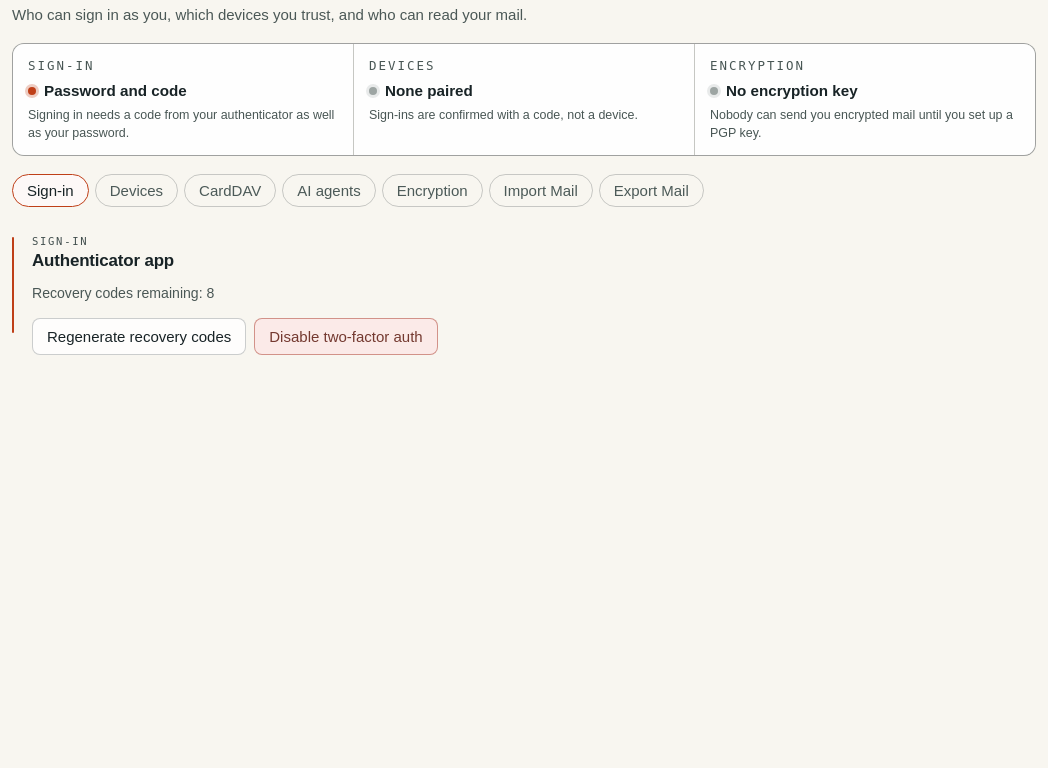
SIBLING: recovery codes survive a tab switch › keeps just-issued recovery codes across Sign-in -> Devices -> Sign-in
Click the button "Regenerate recovery codes": point(139, 337) [32,318,246,355]
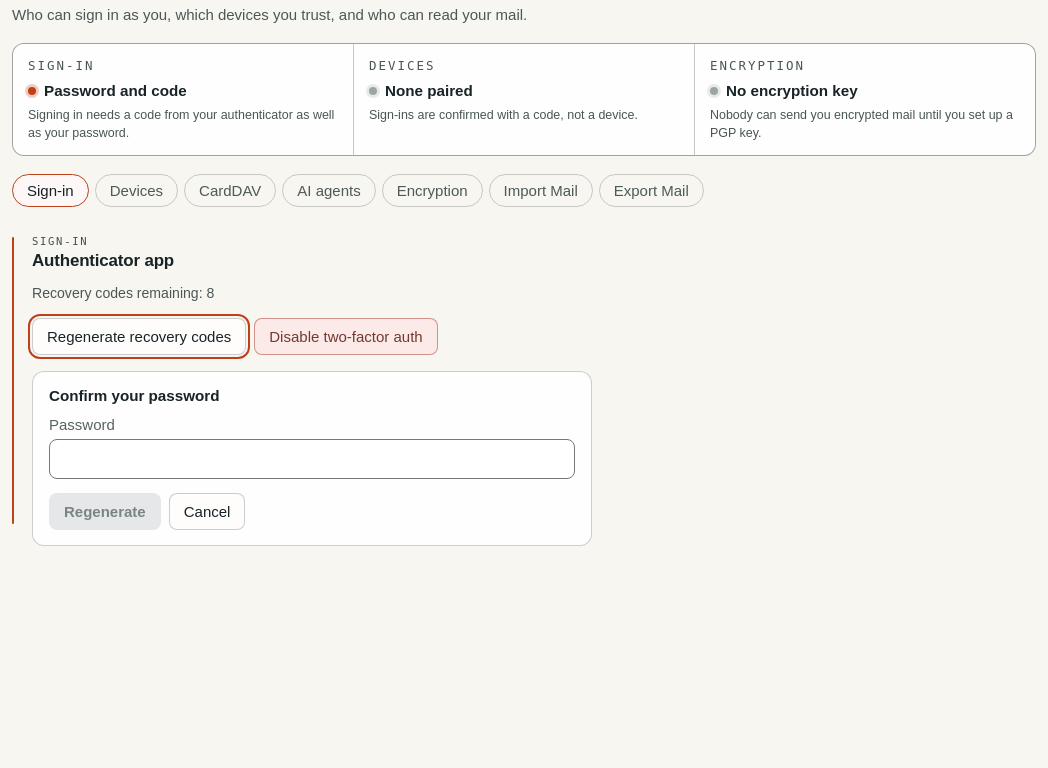
In the password field labelled "Password": point(312, 459) [49,439,575,479], type "hunter2"
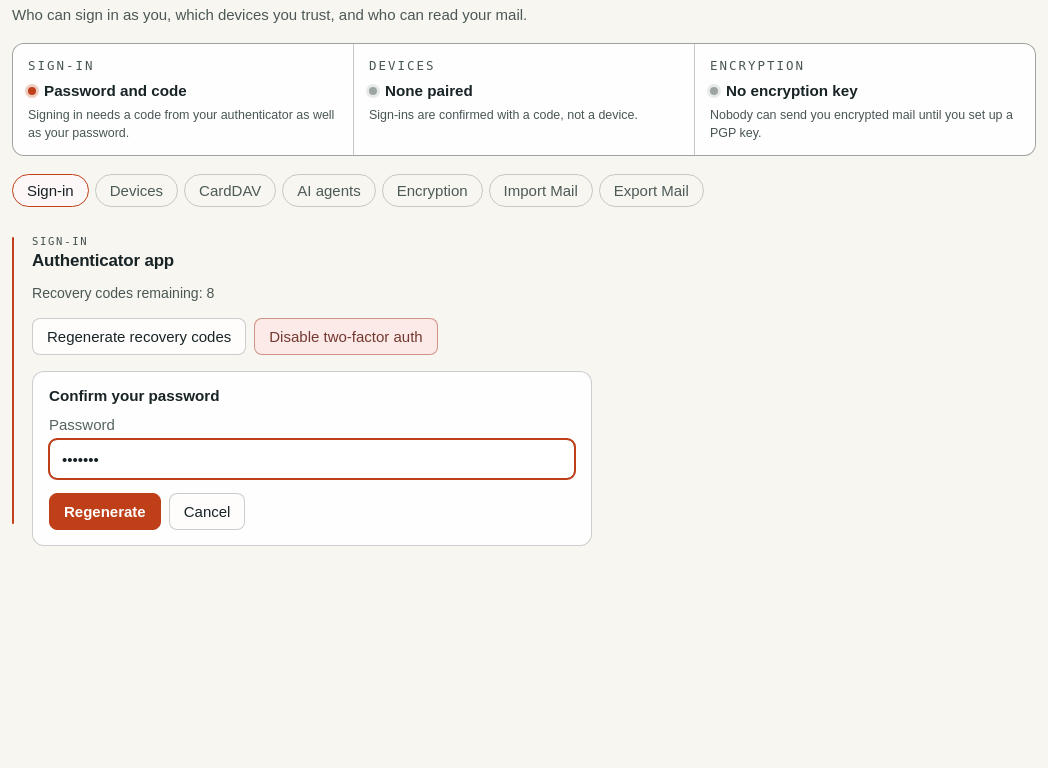
Click the button "Regenerate": point(105, 512) [49,493,161,530]
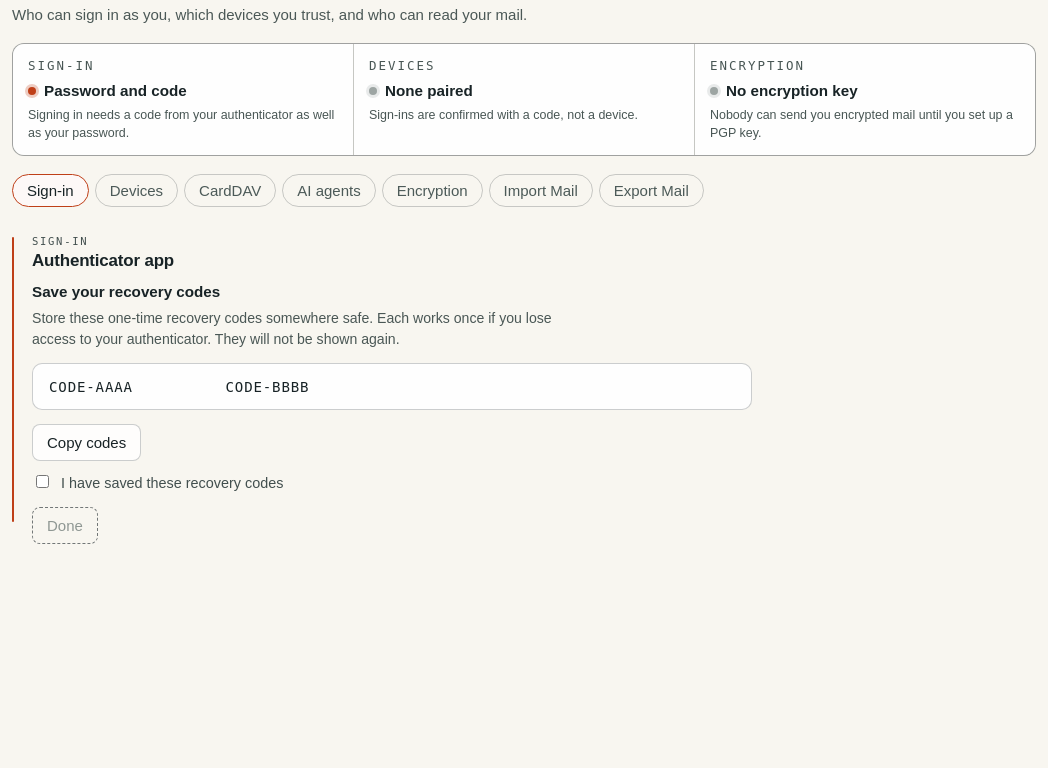
Now the text "CODE-AAAA" is shown, box [49,378,133,394]
Click the tab "Devices": point(136, 191) [95,174,178,207]
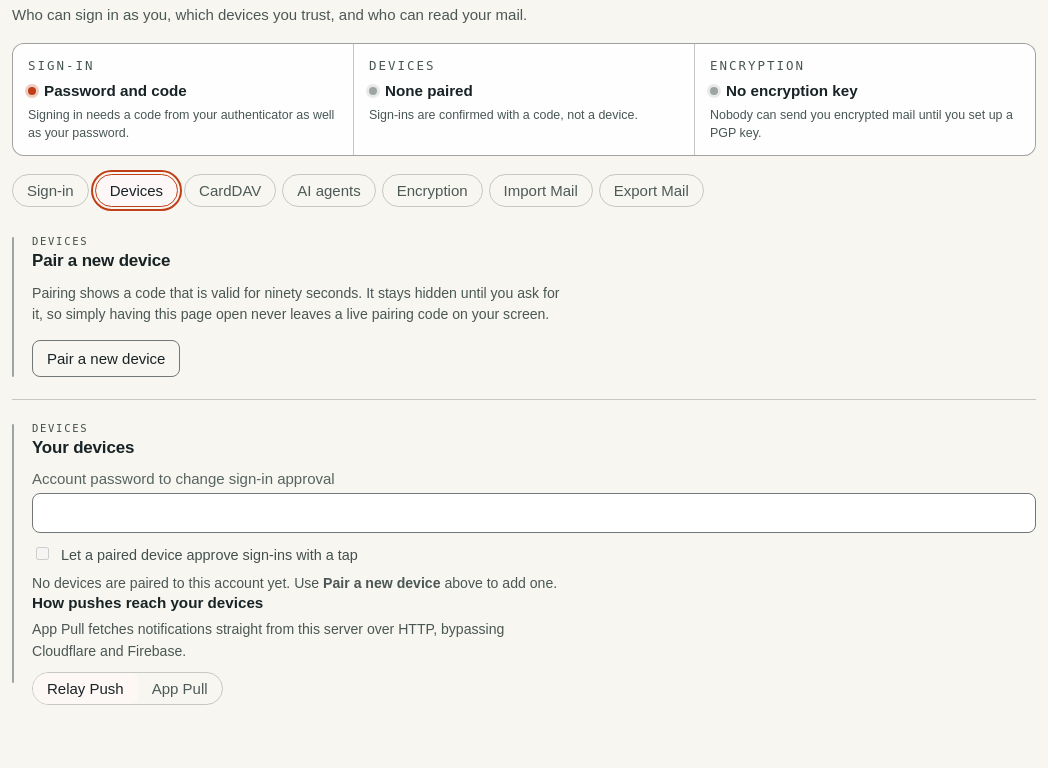
Click the tab "Sign-in": point(50, 191) [12,174,89,207]
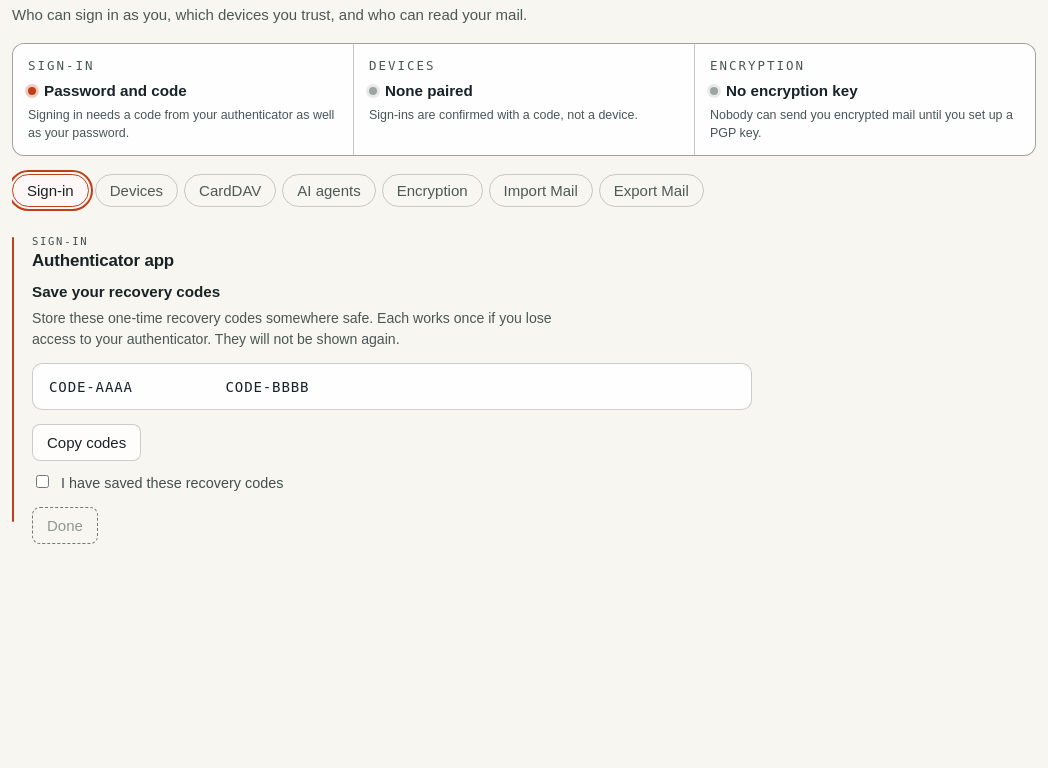
Now the text "CODE-AAAA" is shown, box [49,378,133,394]
